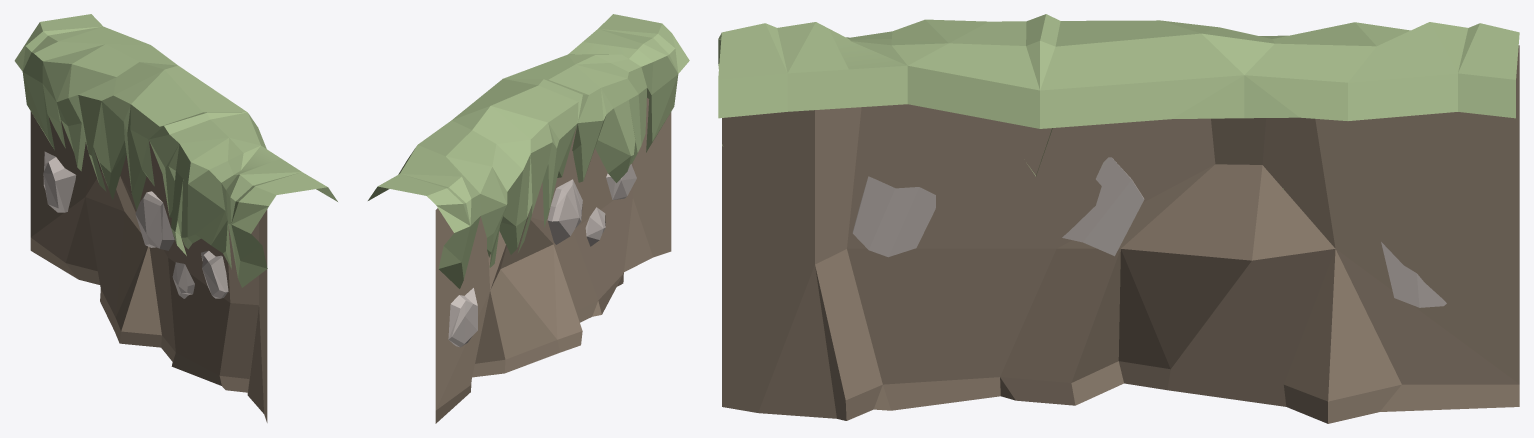
The model's file is ER_Terrain_1x1_Grass_Halfsize_001_B3.fbx.
3 renders of one model, left to right at view 1: azimuth 30°, elevation 25°; view 2: azimuth 150°, elevation 25°; view 3: azimuth 270°, elevation 25°, orthographic. The views are drawn at different scales.
Parts seen in each view (by area): view 1: ER_Terrain_1x1_Grass_Halfsize_001_B3; view 2: ER_Terrain_1x1_Grass_Halfsize_001_B3; view 3: ER_Terrain_1x1_Grass_Halfsize_001_B3.
Boxes of the visible parts, <box> form: ER_Terrain_1x1_Grass_Halfsize_001_B3: <box>14,14,337,422</box>; ER_Terrain_1x1_Grass_Halfsize_001_B3: <box>368,14,689,423</box>; ER_Terrain_1x1_Grass_Halfsize_001_B3: <box>718,14,1519,423</box>.
Bounding box in the file's own units: 0.2776 × 0.5611 × 1.
